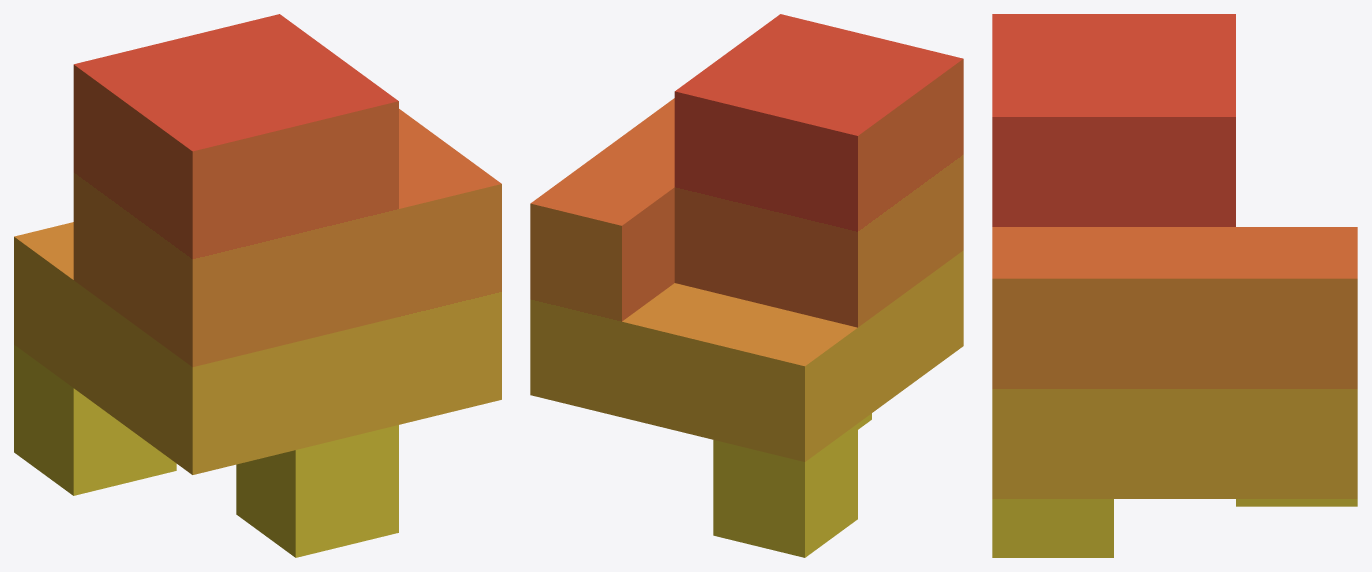
Rendered from small_fire.fbx.
3 views of the same model, side by side, from view 1: azimuth 30°, elevation 25°; view 2: azimuth 150°, elevation 25°; view 3: azimuth 270°, elevation 25° (orthographic). The views are drawn at different scales.
Parts seen in each view (by area): view 1: cube_1, cube, cube_2, cube_3, cube_4; view 2: cube_1, cube, cube_2, cube_4; view 3: cube_2, cube_1, cube_3, cube_4.
Boxes of the visible parts, left/top/right/bottom form: cube_1: left=73, top=14, right=398, bottom=367; cube: left=14, top=222, right=398, bottom=474; cube_2: left=399, top=109, right=501, bottom=424; cube_3: left=236, top=425, right=398, bottom=557; cube_4: left=14, top=345, right=176, bottom=495; cube_1: left=674, top=14, right=963, bottom=327; cube: left=622, top=250, right=963, bottom=461; cube_2: left=530, top=98, right=674, bottom=417; cube_4: left=713, top=423, right=857, bottom=557; cube_2: left=992, top=227, right=1357, bottom=498; cube_1: left=992, top=14, right=1235, bottom=226; cube_3: left=992, top=499, right=1113, bottom=557; cube_4: left=1236, top=499, right=1357, bottom=506.
Size of the model in its own units: 18.75 by 25 by 18.75.
Materials: 1 (1 with a texture image).
